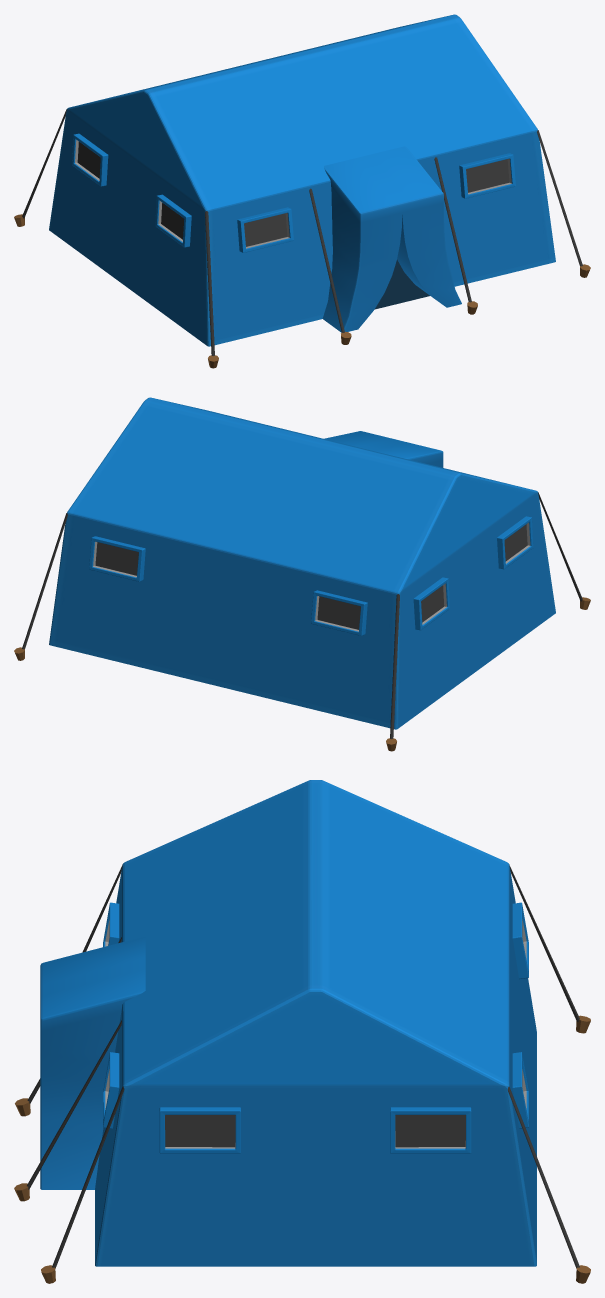
Rendered from Base 2 Cut.fbx.
The picture shows the model from 3 angles, top to bottom: view 1: azimuth 30°, elevation 25°; view 2: azimuth 150°, elevation 25°; view 3: azimuth 270°, elevation 25°; orthographic projection. The views are drawn at different scales.
Visible parts, largest first — view 1: Cut_09, Cut_04, Cut_01, Cut_03, Cut_14, Cut_05, Cut_02, Cut_07, Cut_08, Cut_12, Cut_13; view 2: Cut_09, Cut_05, Cut_04, Cut_14, Cut_03, Cut_06, Cut_01, Cut_11, Cut_10; view 3: Cut_05, Cut_04, Cut_03, Cut_09, Cut_01, Cut_13, Cut_14, Cut_10, Cut_08, Cut_06, Cut_11, Cut_12.
Part boxes in pixels (x1,y1,x2,y2): Cut_09: (58,72,247,278); Cut_04: (240,22,501,222); Cut_01: (322,146,461,332); Cut_03: (184,52,363,270); Cut_14: (49,164,242,346); Cut_05: (333,14,555,280); Cut_02: (238,211,490,339); Cut_07: (237,207,293,252); Cut_08: (459,153,515,198); Cut_12: (205,188,351,368); Cut_13: (434,130,590,314); Cut_09: (286,455,546,654); Cut_05: (49,397,233,676); Cut_04: (149,404,357,614); Cut_14: (286,552,555,729); Cut_03: (228,435,480,628); Cut_06: (162,599,286,702); Cut_01: (323,431,443,467); Cut_11: (386,594,399,751); Cut_10: (14,513,67,660); Cut_05: (95,968,536,1266); Cut_04: (108,884,521,1137); Cut_03: (118,828,521,1051); Cut_09: (116,780,528,1013); Cut_01: (40,936,145,1189); Cut_13: (14,1020,124,1283); Cut_14: (522,978,536,1104); Cut_10: (507,1086,590,1283); Cut_08: (103,1052,119,1128); Cut_06: (522,1016,536,1177); Cut_11: (509,864,590,1033); Cut_12: (15,864,122,1116).
Bounding box in the file's own units: 487 × 242 × 463.
Materials: 1 (1 with a texture image).
